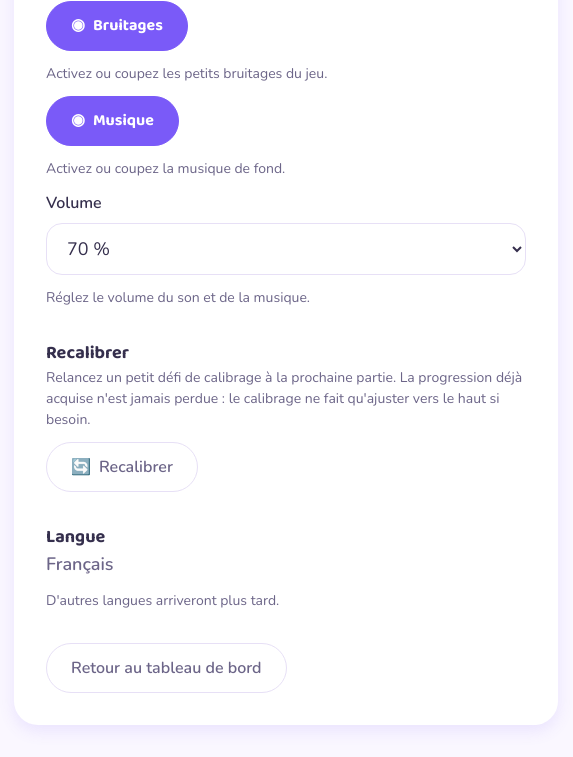
SettingsForm — recalibrer (story 7.6, ADR 0016) › cliquer « Recalibrer » OUVRE la confirmation (corps + confirmer/annuler) SANS armer (aucun appel action)
(page scrolled)
Click the button "🔄 Recalibrer" at coordinates (122, 467), box [46,442,198,492]
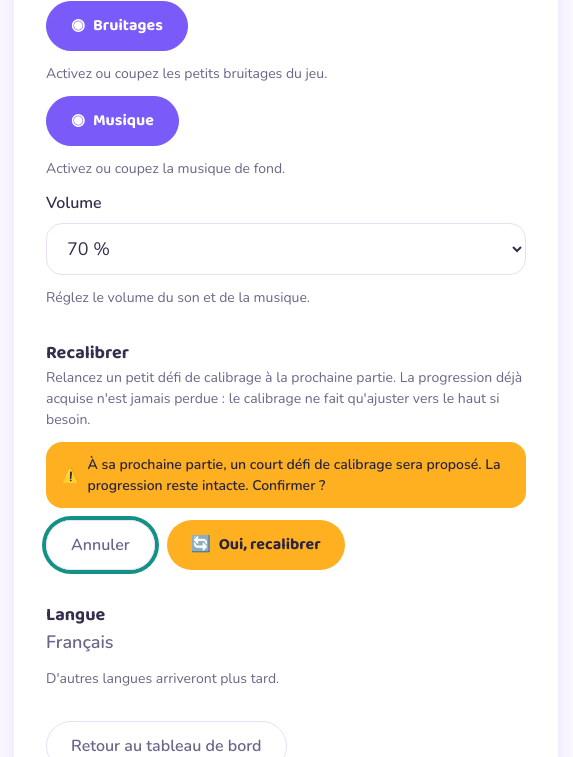
Expected: the text "À sa prochaine partie, un court défi de calibrage sera proposé. La progression reste intacte. Confirmer ?" is shown, [88,455,501,495]
Expected: the button "🔄 Oui, recalibrer" is shown, [167,520,345,570]
Expected: the button "Annuler" is shown, [46,520,155,570]
